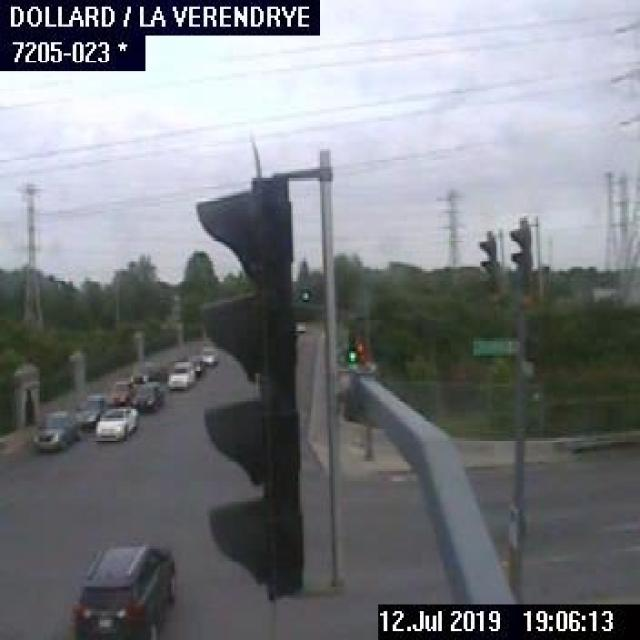vehicle: (66, 538, 178, 638), (29, 407, 76, 446), (95, 404, 138, 441), (73, 393, 103, 426), (133, 378, 163, 409), (162, 360, 195, 387), (108, 378, 134, 404), (199, 345, 216, 369)
